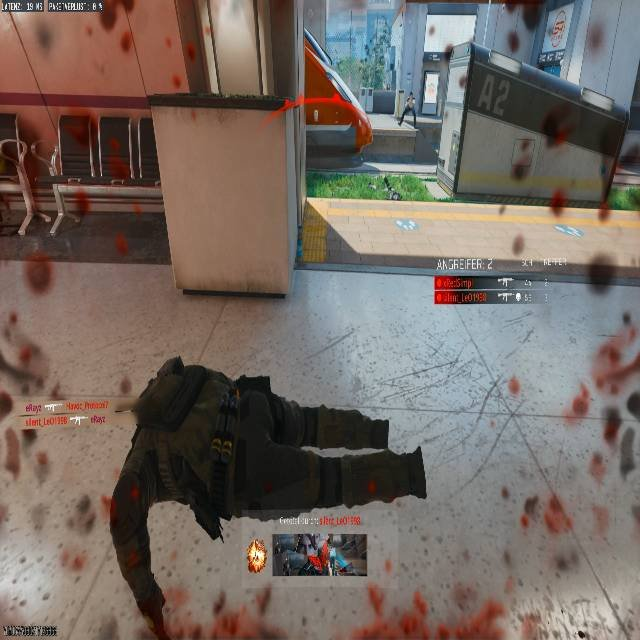player: (398, 91, 416, 126), (319, 535, 334, 574)
